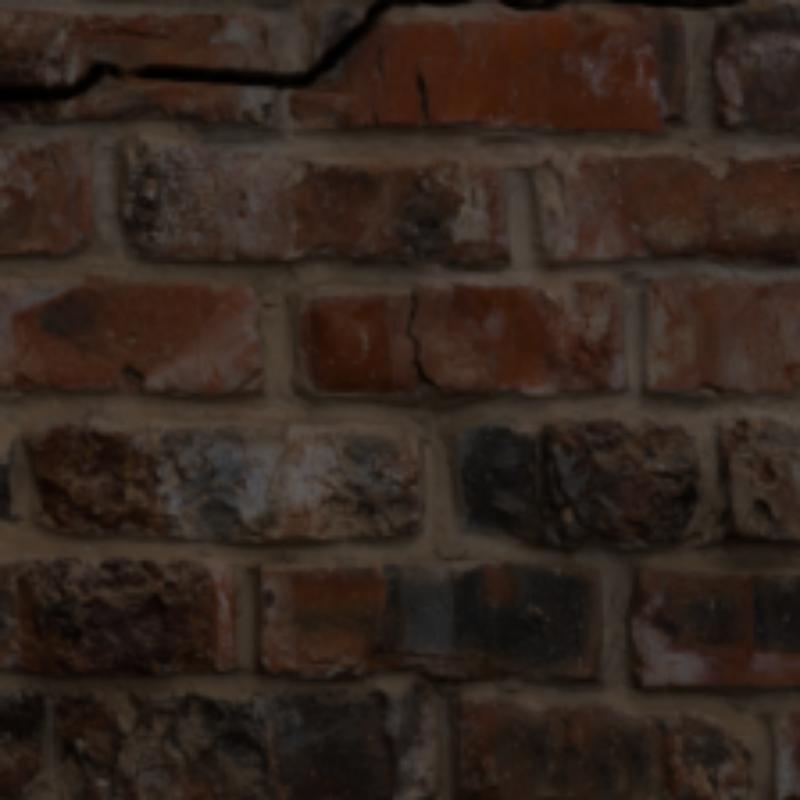pothole: (0, 0, 468, 100), (404, 289, 436, 389), (593, 0, 743, 7), (500, 0, 568, 7)
